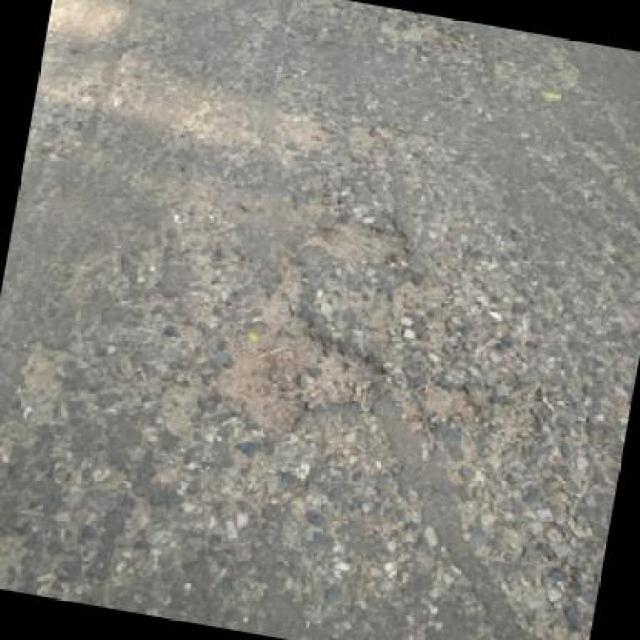pothole1: (206, 281, 403, 450), (302, 206, 416, 277), (417, 376, 486, 424)
